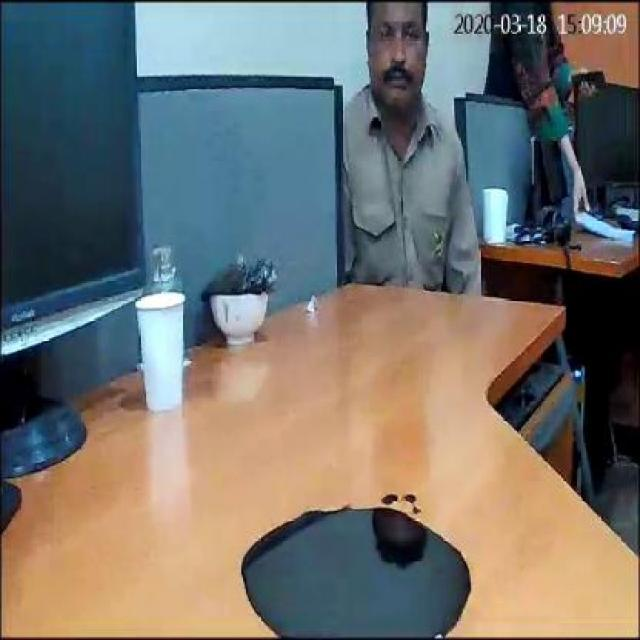spill: (236, 506, 470, 640)
